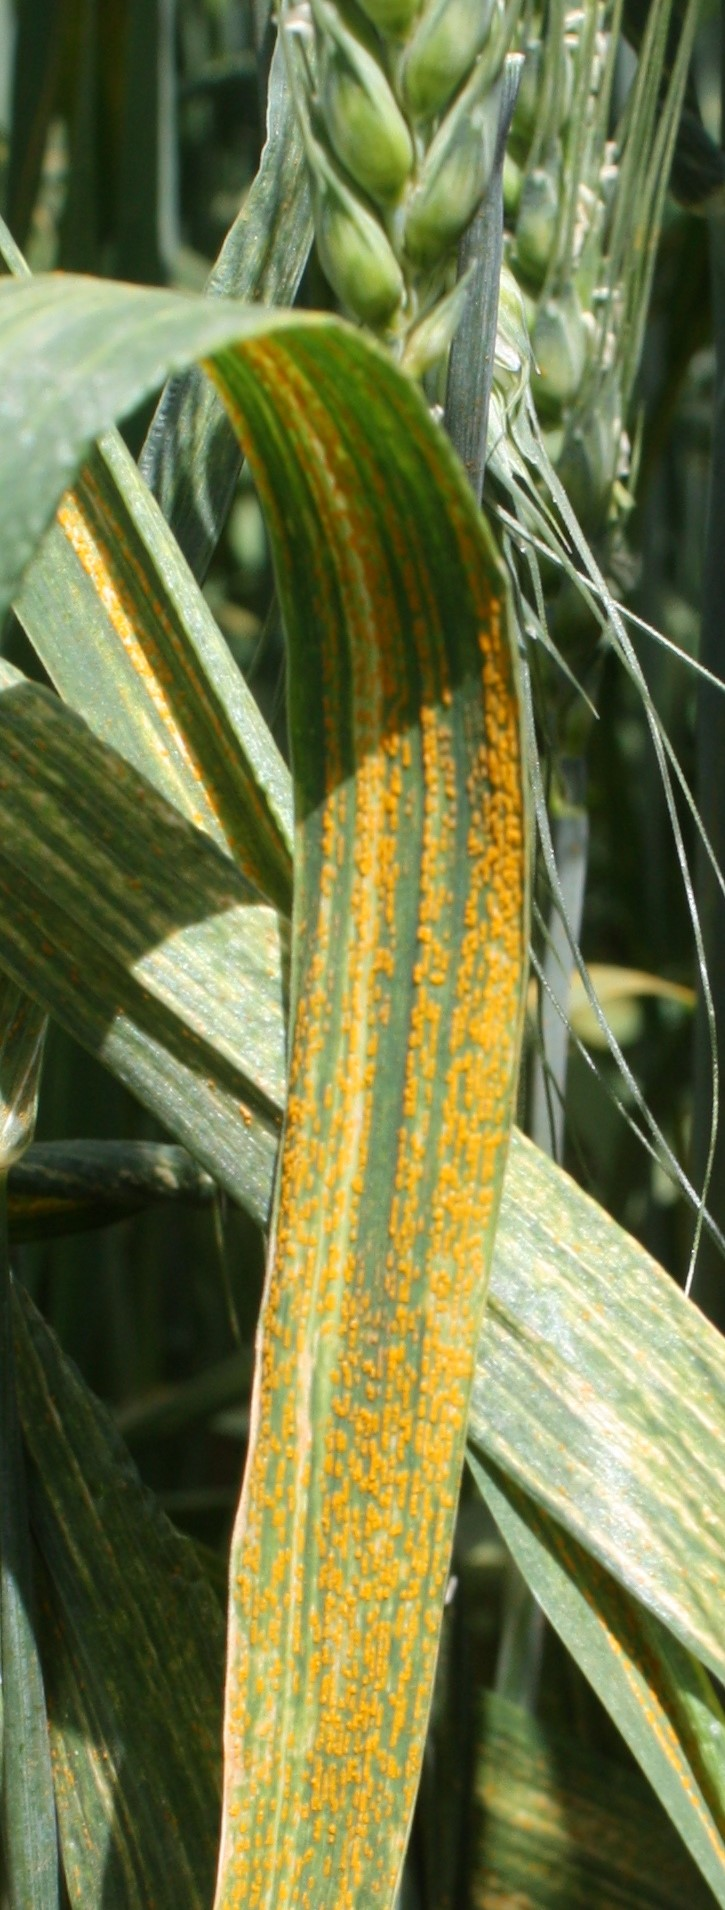Leaf Rust: (206, 646, 526, 1858)
